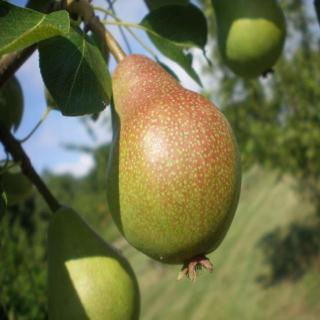Pear: (105, 54, 242, 284), (48, 203, 142, 319), (210, 0, 287, 82)
